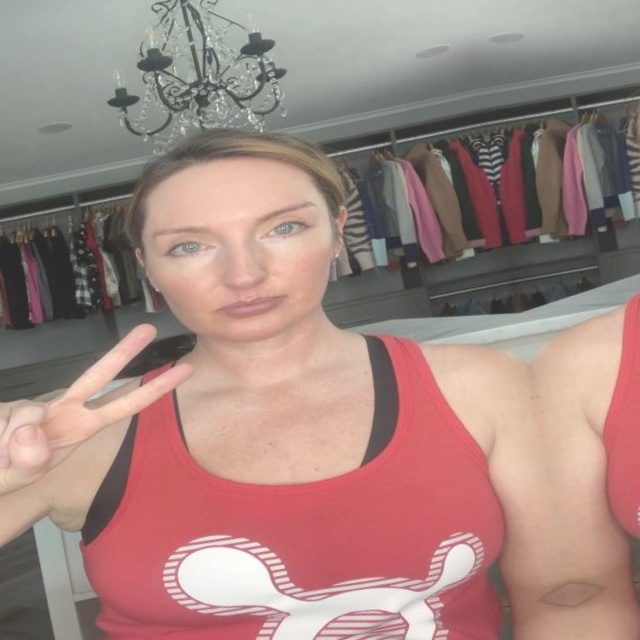Scissors: (0, 311, 211, 516)
